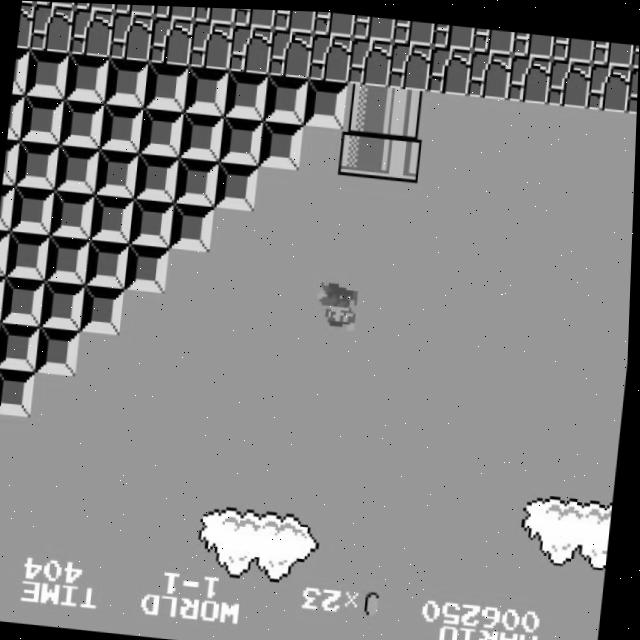11- little_mario: (316, 278, 363, 331)
14- pipe: (383, 84, 428, 134), (343, 80, 388, 130)
15- pipe_head: (378, 129, 424, 179), (338, 125, 384, 175)
17- undestructible_block: (148, 14, 194, 65), (586, 58, 632, 108), (546, 54, 592, 104), (467, 46, 513, 96), (427, 42, 473, 92), (387, 38, 433, 88), (347, 34, 393, 84), (307, 30, 353, 80), (228, 22, 274, 72), (188, 19, 234, 69), (108, 10, 154, 60), (268, 26, 313, 77), (29, 2, 74, 53), (507, 50, 552, 100), (69, 7, 114, 57), (511, 27, 555, 55), (551, 32, 595, 59), (471, 24, 515, 51), (431, 20, 475, 47), (591, 36, 634, 63), (392, 16, 435, 43), (352, 12, 395, 39), (311, 9, 355, 34), (271, 8, 315, 31), (231, 7, 275, 27), (17, 2, 34, 49), (193, 6, 236, 23), (153, 4, 196, 19), (626, 61, 639, 110), (113, 3, 156, 16), (73, 2, 116, 11), (631, 39, 639, 65)
9- hard_block: (41, 279, 87, 330), (64, 52, 110, 103), (24, 48, 70, 99), (303, 76, 349, 126), (263, 72, 309, 122), (223, 68, 269, 118), (183, 64, 229, 114), (130, 197, 176, 247), (139, 106, 185, 156), (81, 284, 127, 334), (37, 325, 83, 375), (179, 109, 224, 160), (144, 60, 189, 111), (91, 192, 136, 243), (60, 97, 105, 148), (46, 235, 92, 284), (6, 231, 52, 280), (259, 117, 304, 167), (215, 159, 260, 209), (219, 114, 264, 164), (170, 201, 215, 251), (100, 102, 145, 152), (104, 56, 149, 106), (51, 189, 96, 239), (2, 276, 47, 326), (11, 185, 56, 235), (20, 94, 65, 144), (175, 156, 220, 205), (126, 243, 171, 292), (135, 152, 180, 201), (86, 239, 131, 288), (95, 148, 140, 197), (55, 144, 100, 193), (16, 140, 61, 189), (0, 321, 43, 372), (0, 367, 38, 416), (12, 47, 30, 94), (8, 92, 25, 140), (4, 139, 21, 185), (0, 184, 16, 231), (0, 230, 12, 276), (0, 274, 7, 321), (0, 320, 3, 367)
